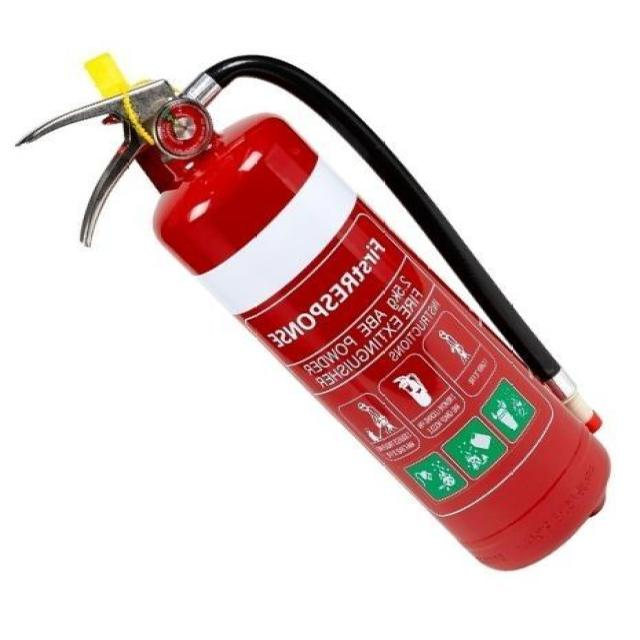fire_extinguisher: (8, 43, 639, 579)
